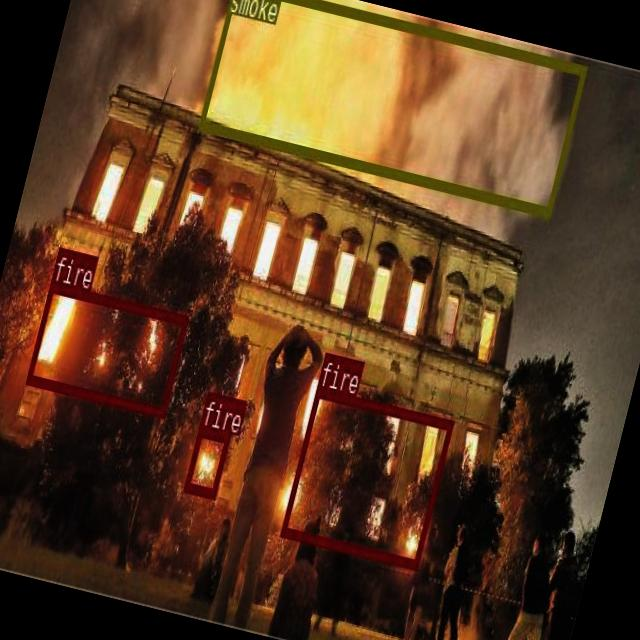fire: (279, 384, 453, 568), (25, 281, 188, 415), (183, 426, 230, 496)
smoke: (197, 0, 586, 215)
